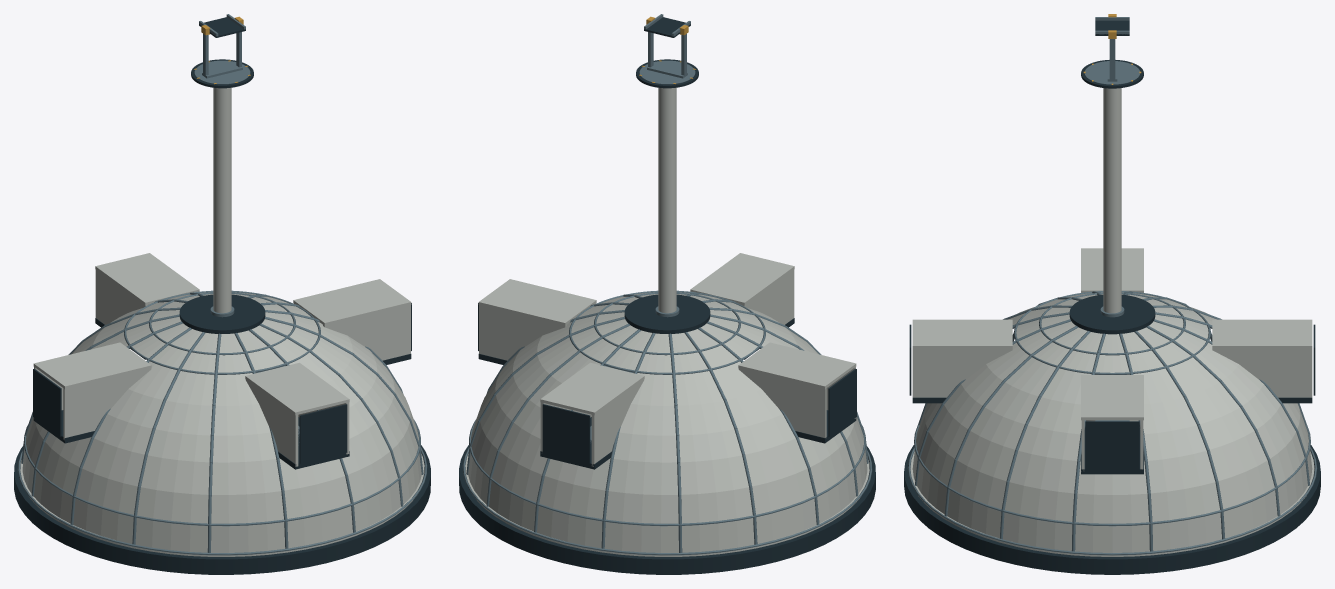
Rendered from fabrication_d0_lod0.glb.
3 views of the same model, side by side, from view 1: azimuth 30°, elevation 25°; view 2: azimuth 150°, elevation 25°; view 3: azimuth 270°, elevation 25° (orthographic).
Visible parts, largest first — view 1: SHELL, BODY, PORT_CAP_N, PORT_CAP_W, FORK, CRADLE; view 2: SHELL, BODY, PORT_CAP_S, PORT_CAP_W, FORK, CRADLE; view 3: SHELL, BODY, PORT_CAP_E, CRADLE.
Boxes of the visible parts, bbox=[...] form: SHELL: bbox=[22, 292, 421, 552]; BODY: bbox=[14, 59, 430, 574]; PORT_CAP_N: bbox=[299, 404, 347, 463]; PORT_CAP_W: bbox=[33, 368, 61, 436]; FORK: bbox=[201, 16, 243, 78]; CRADLE: bbox=[199, 14, 245, 37]; SHELL: bbox=[468, 292, 867, 552]; BODY: bbox=[459, 59, 875, 574]; PORT_CAP_S: bbox=[542, 404, 590, 463]; PORT_CAP_W: bbox=[828, 368, 856, 436]; FORK: bbox=[646, 16, 688, 78]; CRADLE: bbox=[644, 14, 690, 37]; SHELL: bbox=[912, 292, 1312, 552]; BODY: bbox=[904, 60, 1320, 574]; PORT_CAP_E: bbox=[1085, 421, 1139, 469]; CRADLE: bbox=[1095, 17, 1129, 35].
Bounding box in the file's own units: 29.2 × 35.85 × 29.2.
